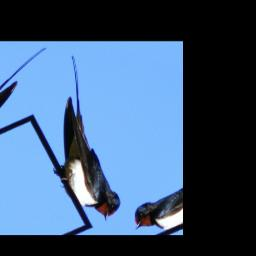Swallow: (13, 53, 172, 225)
